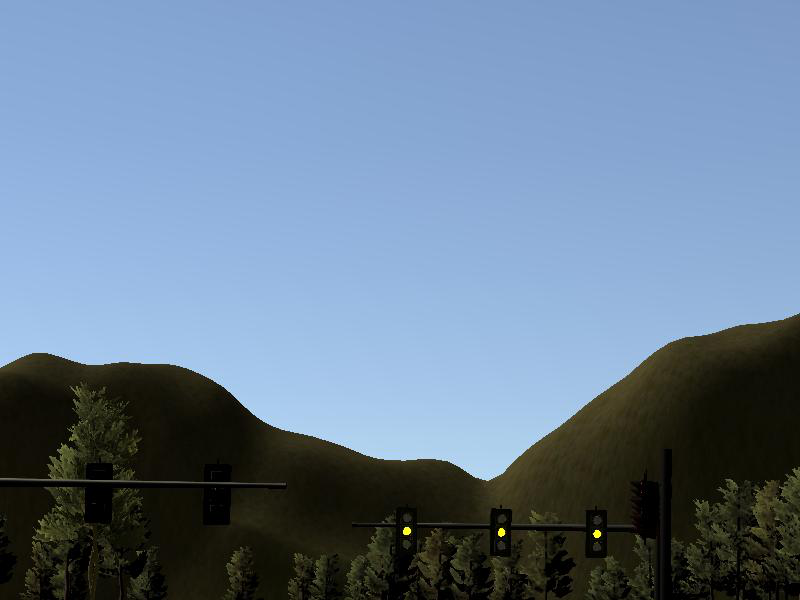yellow: (396, 505, 419, 556), (586, 509, 608, 559), (491, 506, 511, 556)
